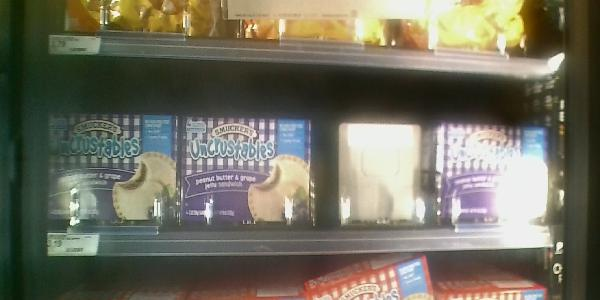icecream: (177, 95, 330, 255), (44, 87, 179, 256), (435, 98, 552, 229)
